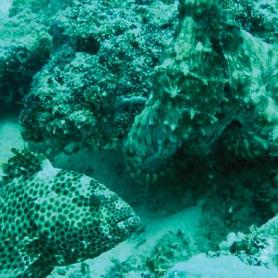Serranidae -Groupers-: (0, 144, 148, 278)
